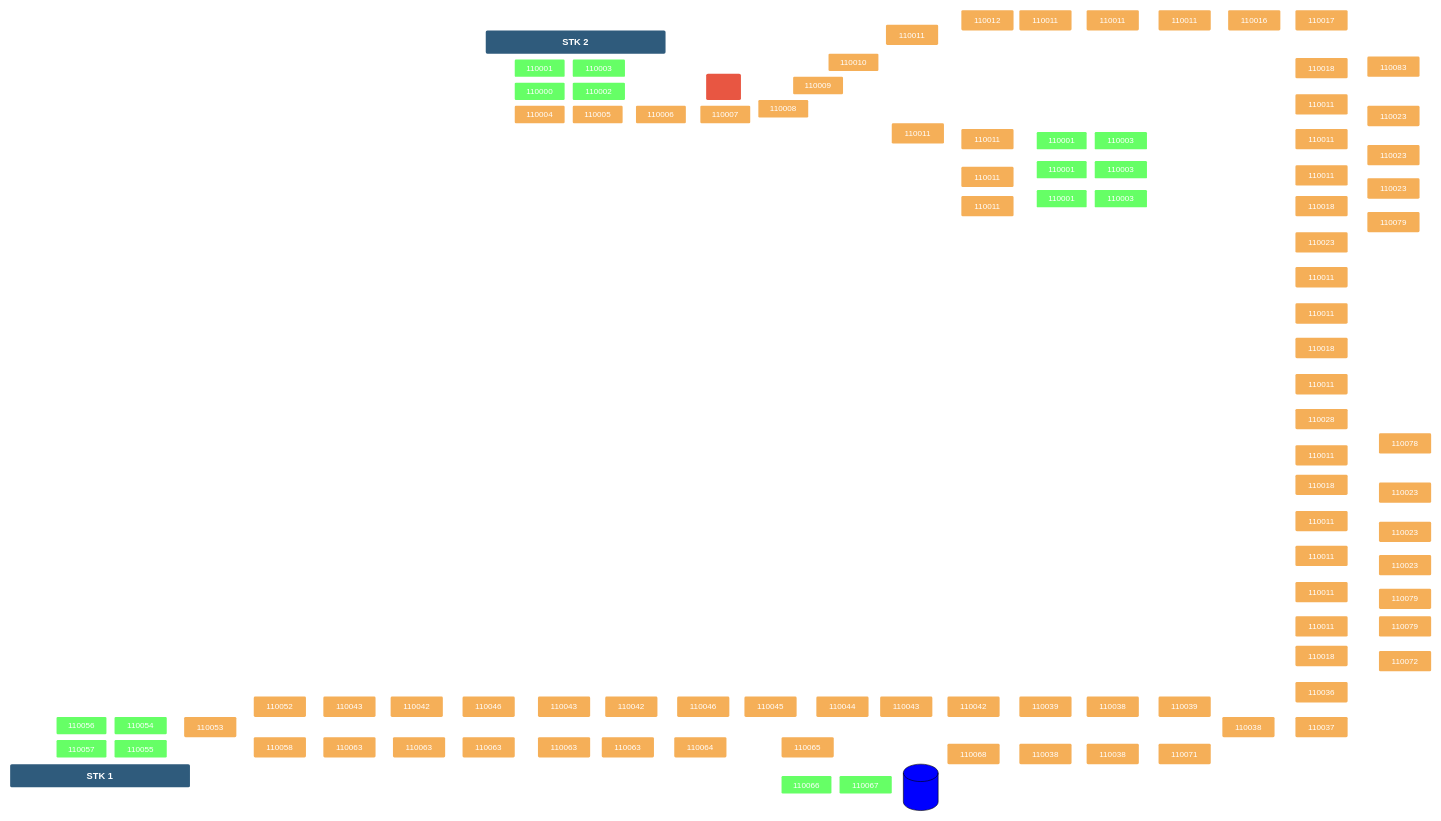
Image size: 1441x821. Some labels were removed from this diagram. The shapes that lost their labels are listed below. From the top down, each one's centre as x and y in pixels, then its label:
At (x=723, y=86): "WALL".
At (x=920, y=787): "BCS".
